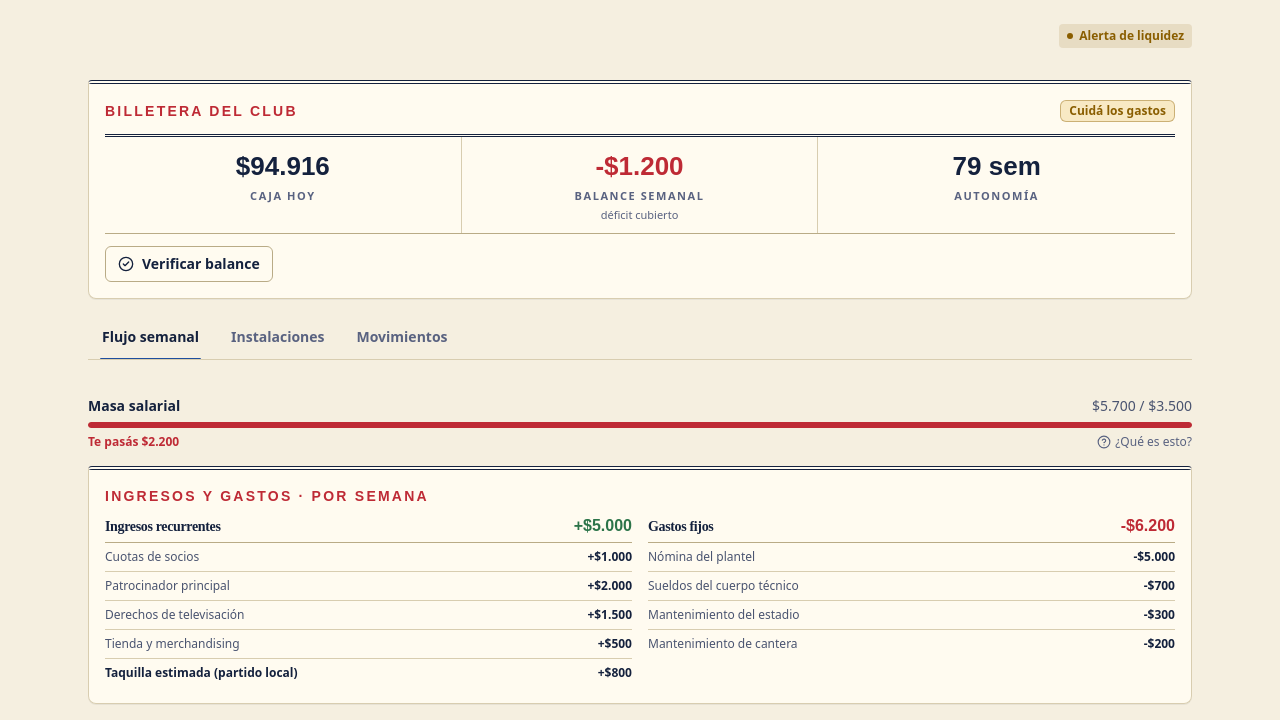
Scenario: pantalla Finanzas › "Verificar balance" compara la caja con el libro y explica la diferencia
Click the button "Verificar balance".
click(189, 264)  # box [105,246,273,282]
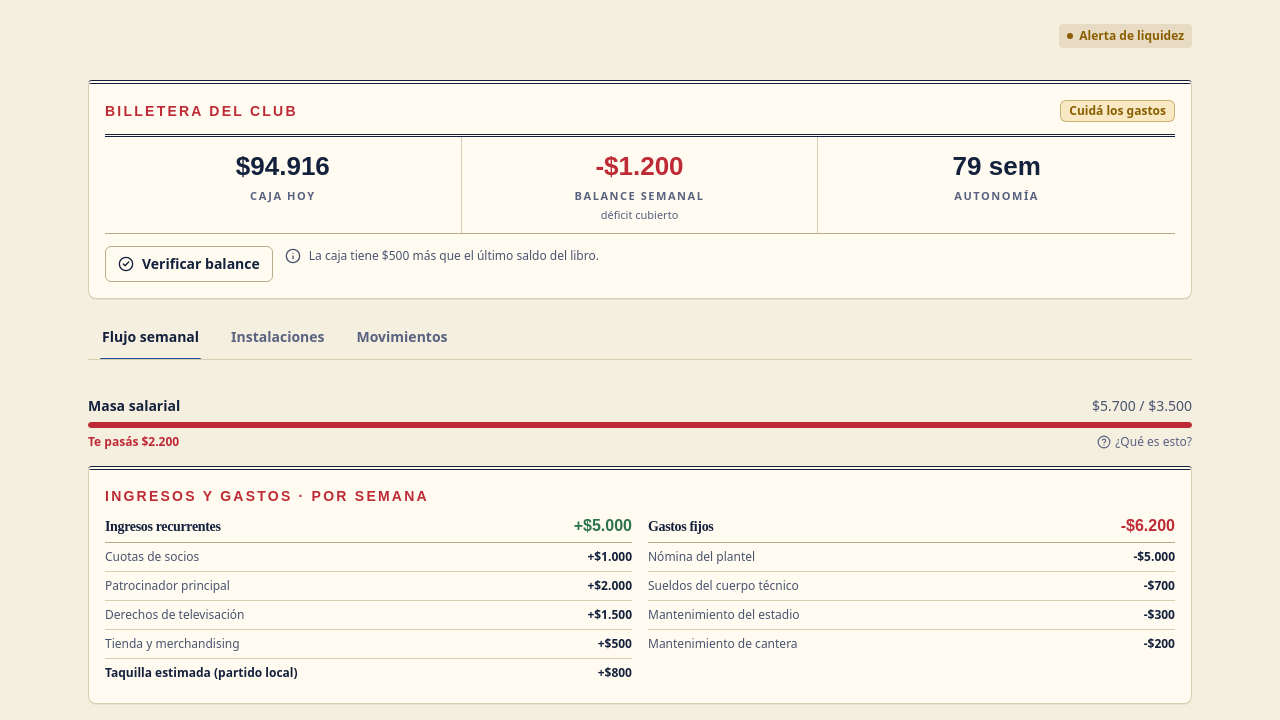
Expected: the text "La caja tiene $500 más que el último saldo del libro." is shown, [309,246,599,266]
